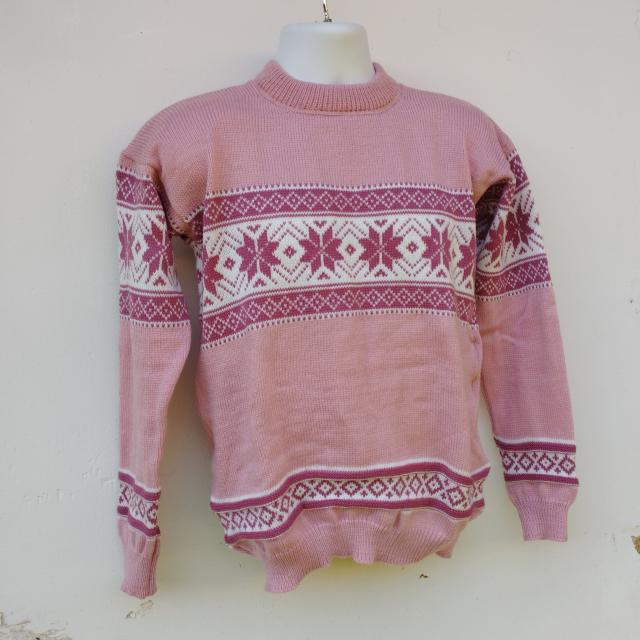Chompa: (114, 19, 579, 599)
